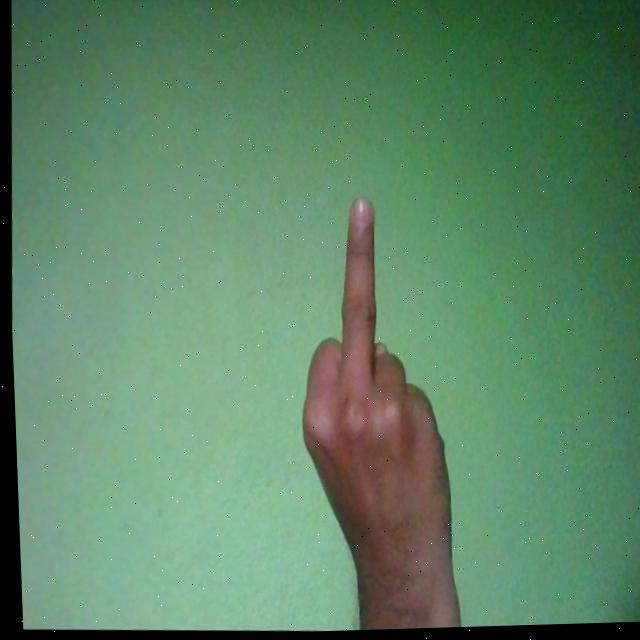Middle Finger: (285, 192, 463, 621)
